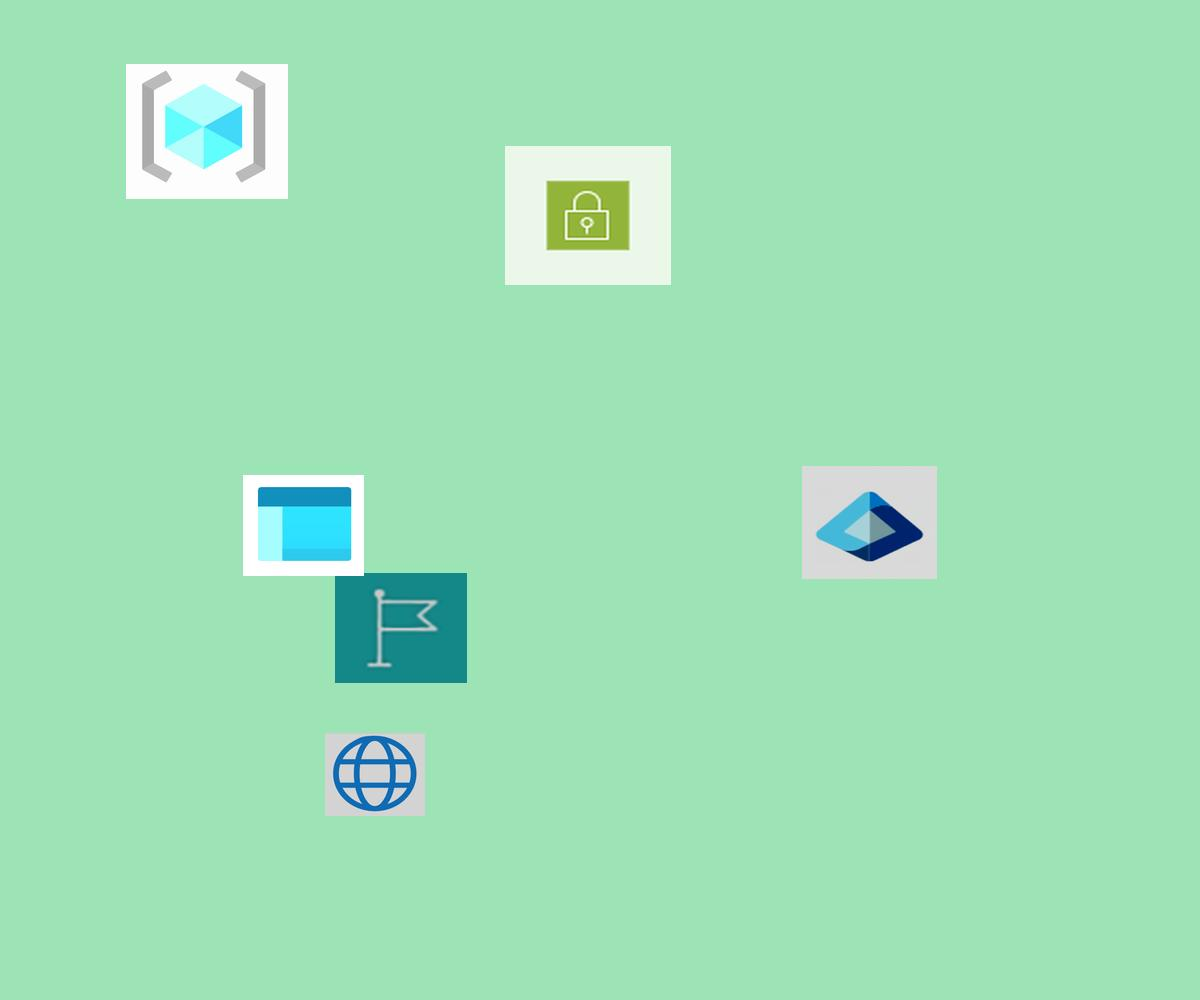AWS-Public-subnet: (505, 146, 671, 285)
AWS-Region: (335, 573, 467, 683)
Azure_http: (325, 733, 425, 816)
Azure_management-portal: (243, 475, 364, 576)
Azure_microsoft_entra: (802, 466, 937, 579)
Azure_resource_group: (126, 64, 288, 199)
